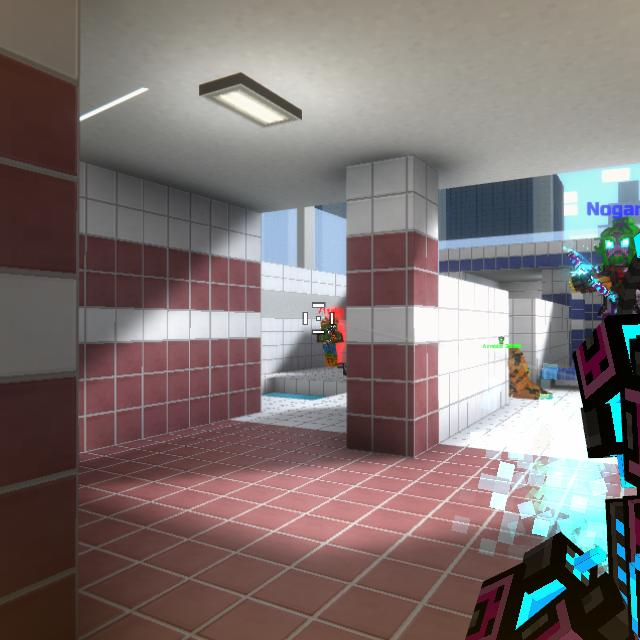Enemy: (318, 318, 343, 366)
